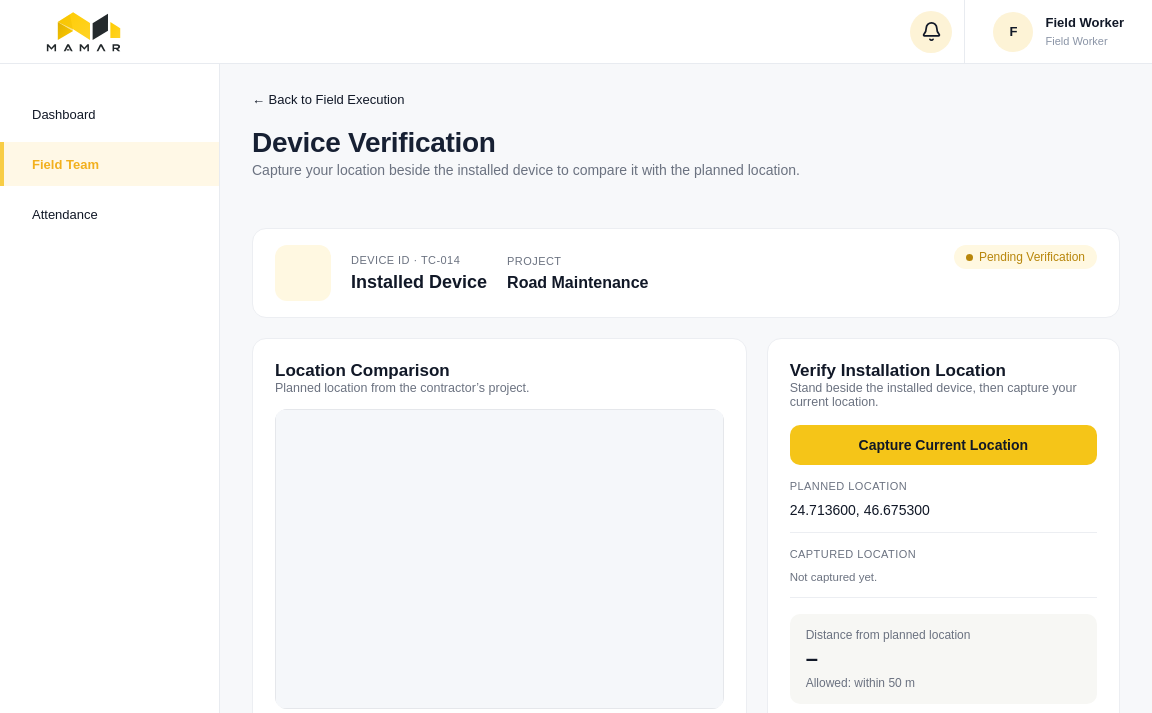
it: Field Worker DeviceVerification › blocks saving when the worker is outside the allowed range
This screenshot has width=1152, height=713.
Click the button "Capture Current Location": (943, 445) [790,425,1097,465]
(page scrolled)
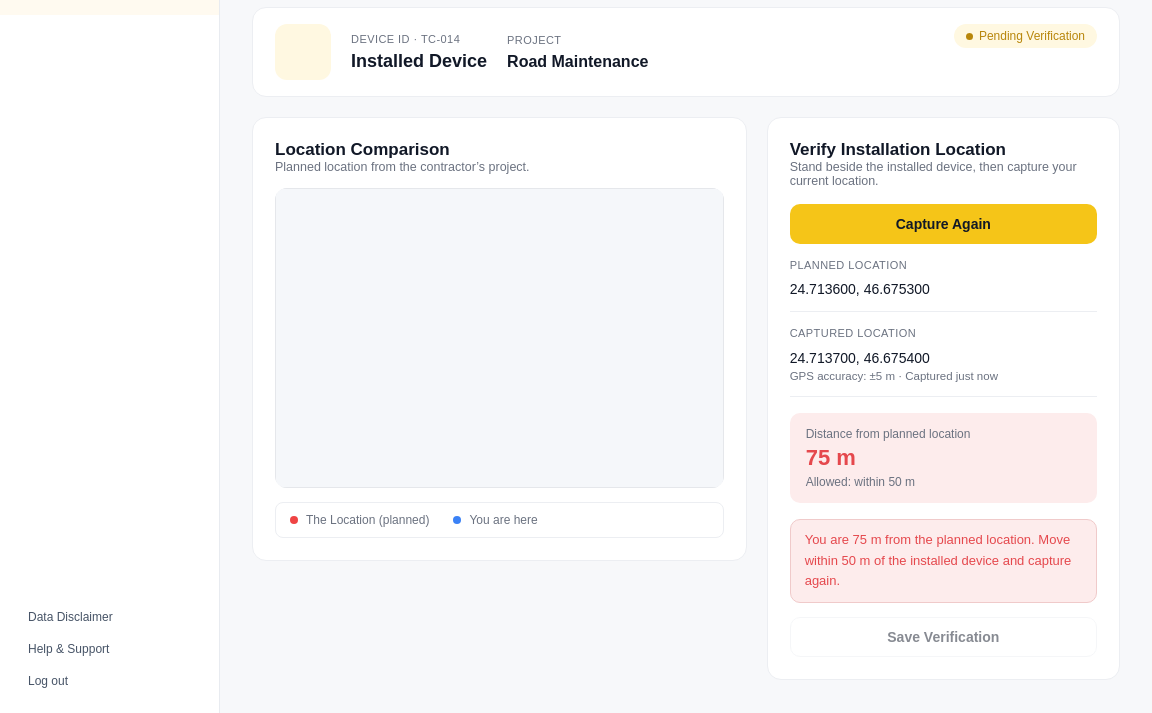
Expected: the button "Save Verification" is disabled, [790,617,1097,657]
Expected: the message shows "You are 75 m from the planned location.", [805,532,1071,588]
